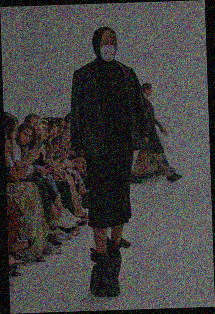with_mask: (99, 38, 118, 63)
without_mask: (19, 131, 34, 147), (9, 126, 19, 143), (32, 121, 43, 136), (49, 125, 58, 138), (42, 126, 50, 140), (60, 123, 68, 136), (148, 87, 154, 97)
